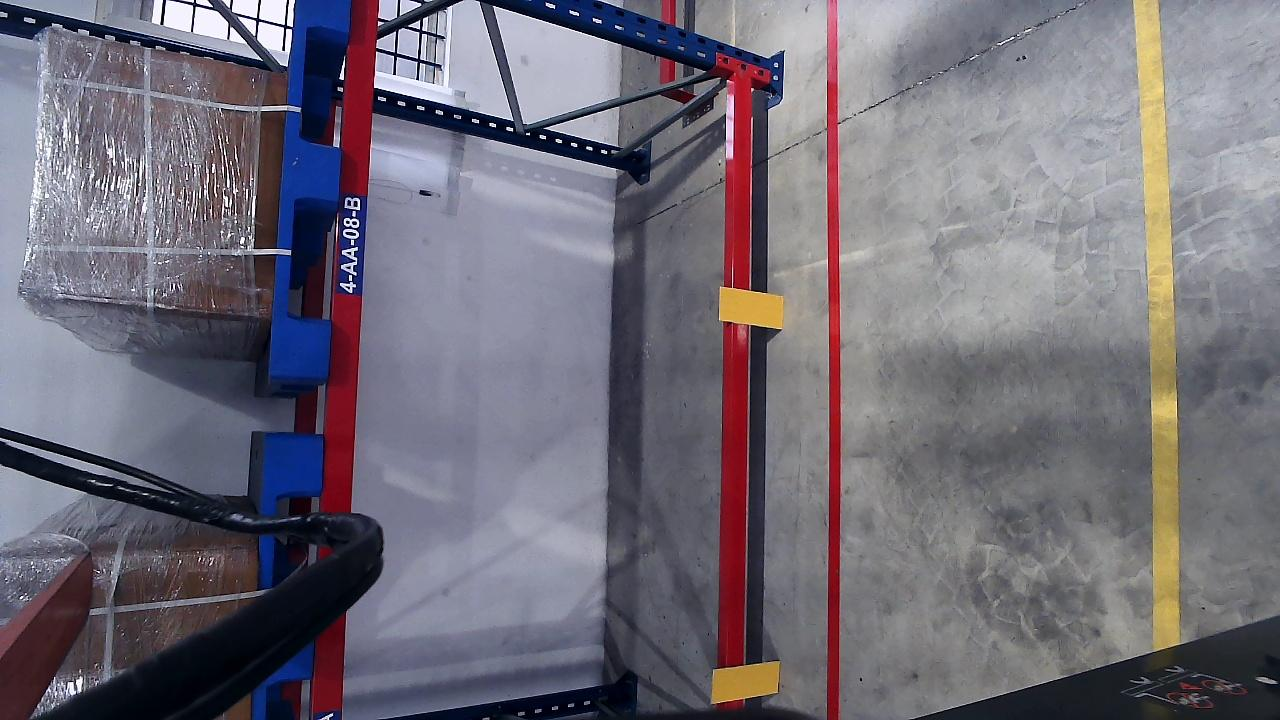h_rack: (313, 0, 378, 720), (726, 76, 758, 714)
orange_strip: (711, 660, 780, 702), (719, 285, 784, 328)
red_line: (822, 2, 844, 720)
small_pallet: (255, 432, 322, 720)
yellow_line: (1135, 0, 1181, 646)
